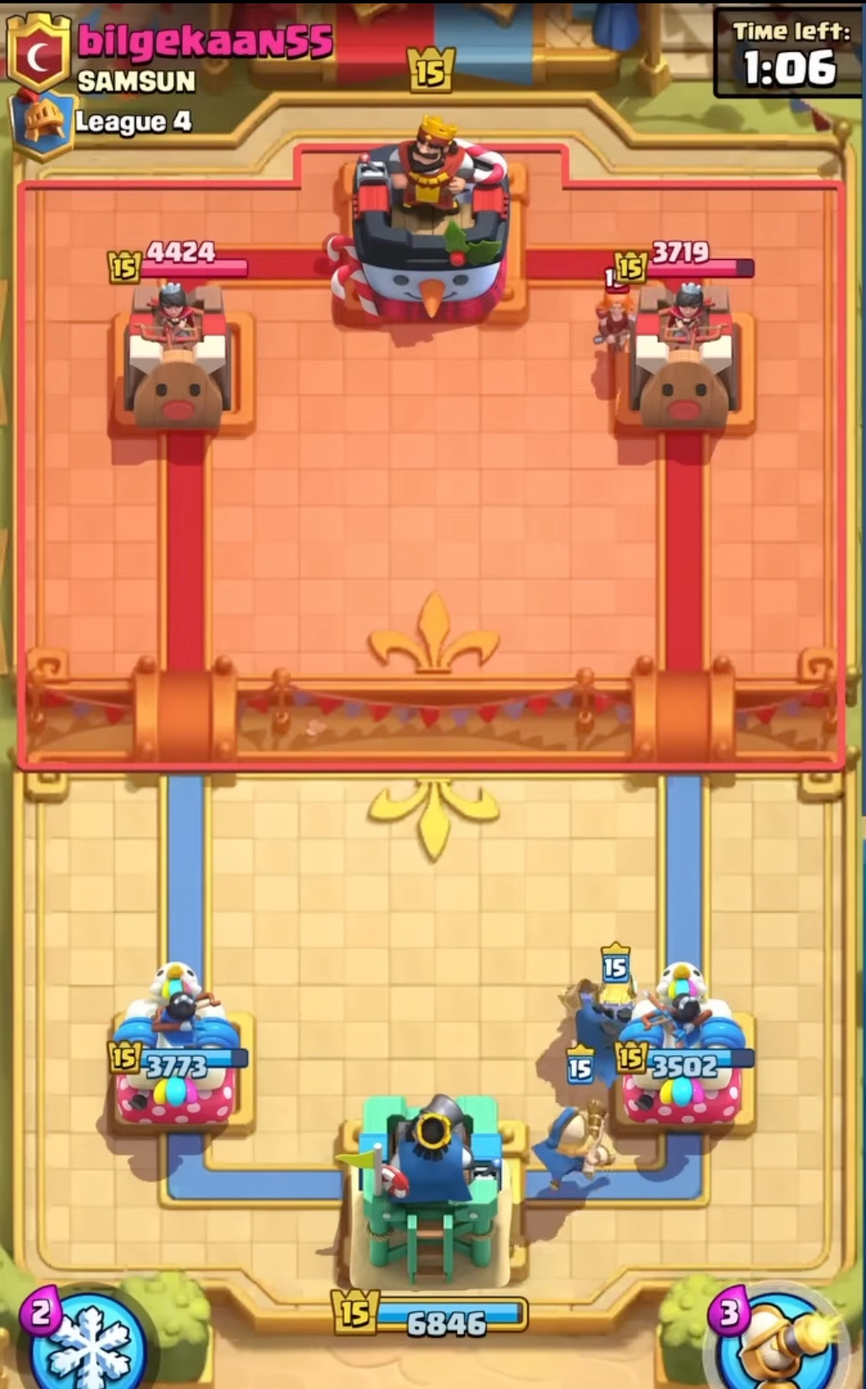hero_ice_golem: (544, 937, 693, 1072)
hero_musketeer: (528, 1038, 622, 1216)
